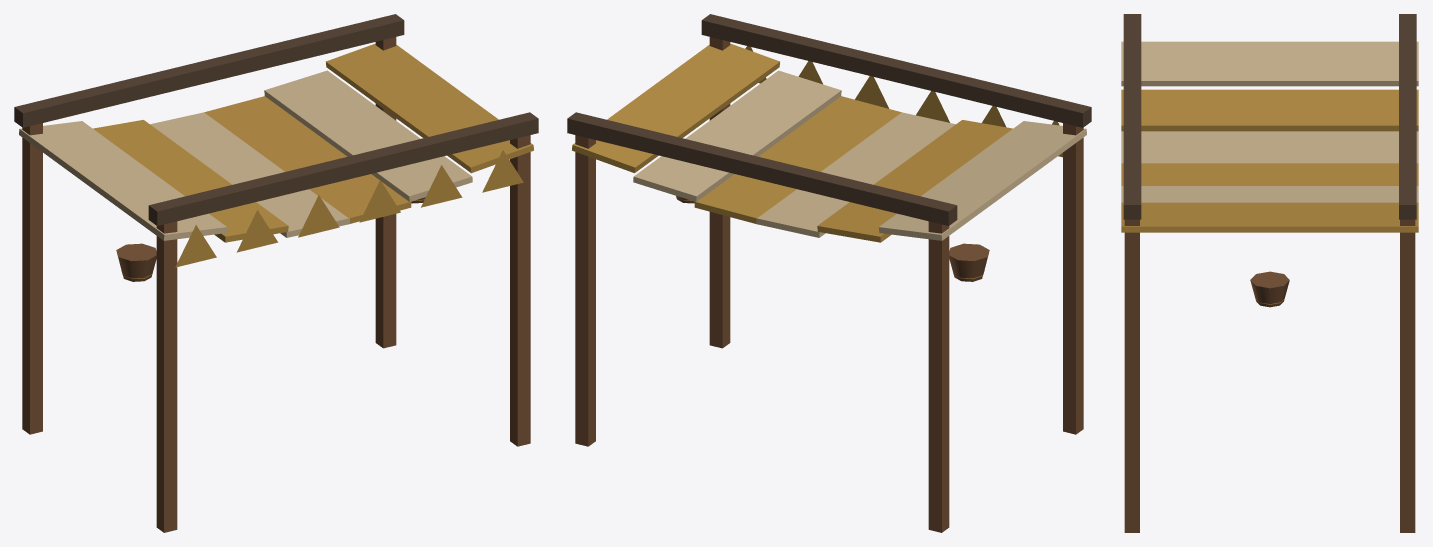
File: canopy.glb
3 renders of one model, left to right at view 1: azimuth 30°, elevation 25°; view 2: azimuth 150°, elevation 25°; view 3: azimuth 270°, elevation 25°, orthographic. The views are drawn at different scales.
Visible parts, largest first — view 1: canopy-surface, wind-cloth-10-surface, wind-cloth-8-surface, wind-cloth-0-surface, wind-cloth-6-surface, wind-cloth-4-surface, wind-cloth-2-surface, wind-cloth-1-surface, wind-cloth-3-surface, wind-cloth-11-surface, wind-cloth-5-surface, wind-cloth-7-surface (+1 smaller); view 2: canopy-surface, wind-cloth-8-surface, wind-cloth-10-surface, wind-cloth-6-surface, wind-cloth-0-surface, wind-cloth-4-surface, wind-cloth-2-surface; view 3: canopy-surface, wind-cloth-0-surface, wind-cloth-2-surface, wind-cloth-4-surface, wind-cloth-10-surface, wind-cloth-6-surface, wind-cloth-8-surface.
Part boxes in pixels (x1=…): canopy-surface: x1=14, y1=14, x2=538, y2=532; wind-cloth-10-surface: x1=326, y1=43, x2=533, y2=173; wind-cloth-8-surface: x1=264, y1=70, x2=472, y2=201; wind-cloth-0-surface: x1=19, y1=121, x2=227, y2=240; wind-cloth-6-surface: x1=204, y1=96, x2=411, y2=223; wind-cloth-4-surface: x1=150, y1=112, x2=349, y2=237; wind-cloth-2-surface: x1=93, y1=120, x2=288, y2=242; wind-cloth-1-surface: x1=175, y1=225, x2=216, y2=267; wind-cloth-3-surface: x1=236, y1=210, x2=278, y2=252; wind-cloth-11-surface: x1=482, y1=150, x2=523, y2=192; wind-cloth-5-surface: x1=298, y1=195, x2=339, y2=237; wind-cloth-7-surface: x1=359, y1=180, x2=400, y2=222; canopy-surface: x1=567, y1=14, x2=1091, y2=532; wind-cloth-8-surface: x1=633, y1=70, x2=841, y2=201; wind-cloth-10-surface: x1=572, y1=43, x2=779, y2=173; wind-cloth-6-surface: x1=694, y1=96, x2=901, y2=223; wind-cloth-0-surface: x1=878, y1=121, x2=1086, y2=240; wind-cloth-4-surface: x1=756, y1=112, x2=955, y2=237; wind-cloth-2-surface: x1=817, y1=120, x2=1012, y2=242; canopy-surface: x1=1123, y1=14, x2=1416, y2=532; wind-cloth-0-surface: x1=1121, y1=41, x2=1418, y2=86; wind-cloth-2-surface: x1=1121, y1=89, x2=1418, y2=131; wind-cloth-4-surface: x1=1121, y1=131, x2=1418, y2=163; wind-cloth-10-surface: x1=1121, y1=202, x2=1418, y2=232; wind-cloth-6-surface: x1=1121, y1=163, x2=1418, y2=185; wind-cloth-8-surface: x1=1121, y1=186, x2=1418, y2=202.
Size of the model in its own units: 4.1 by 3.33 by 2.71.
